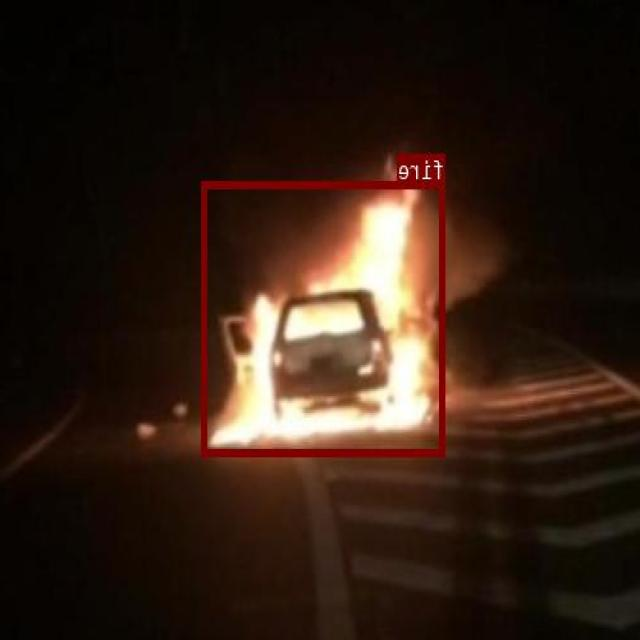fire: (203, 180, 446, 454)
